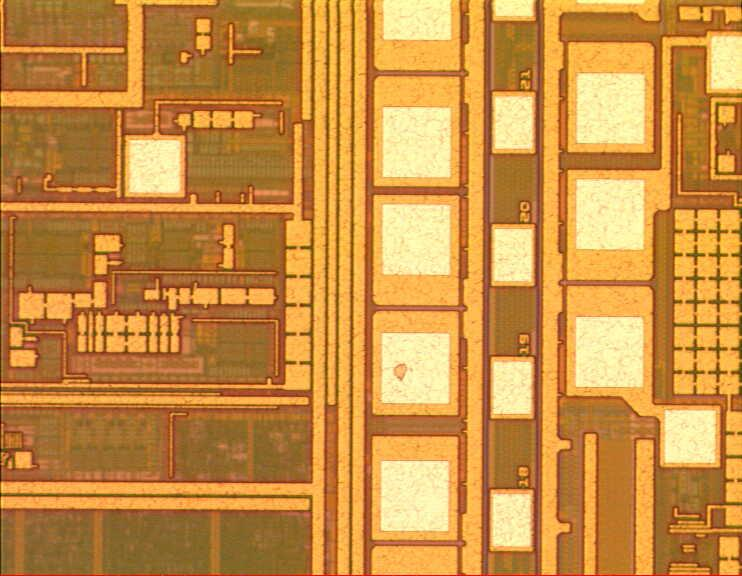BLOCK ETCH: (385, 357, 417, 389)
